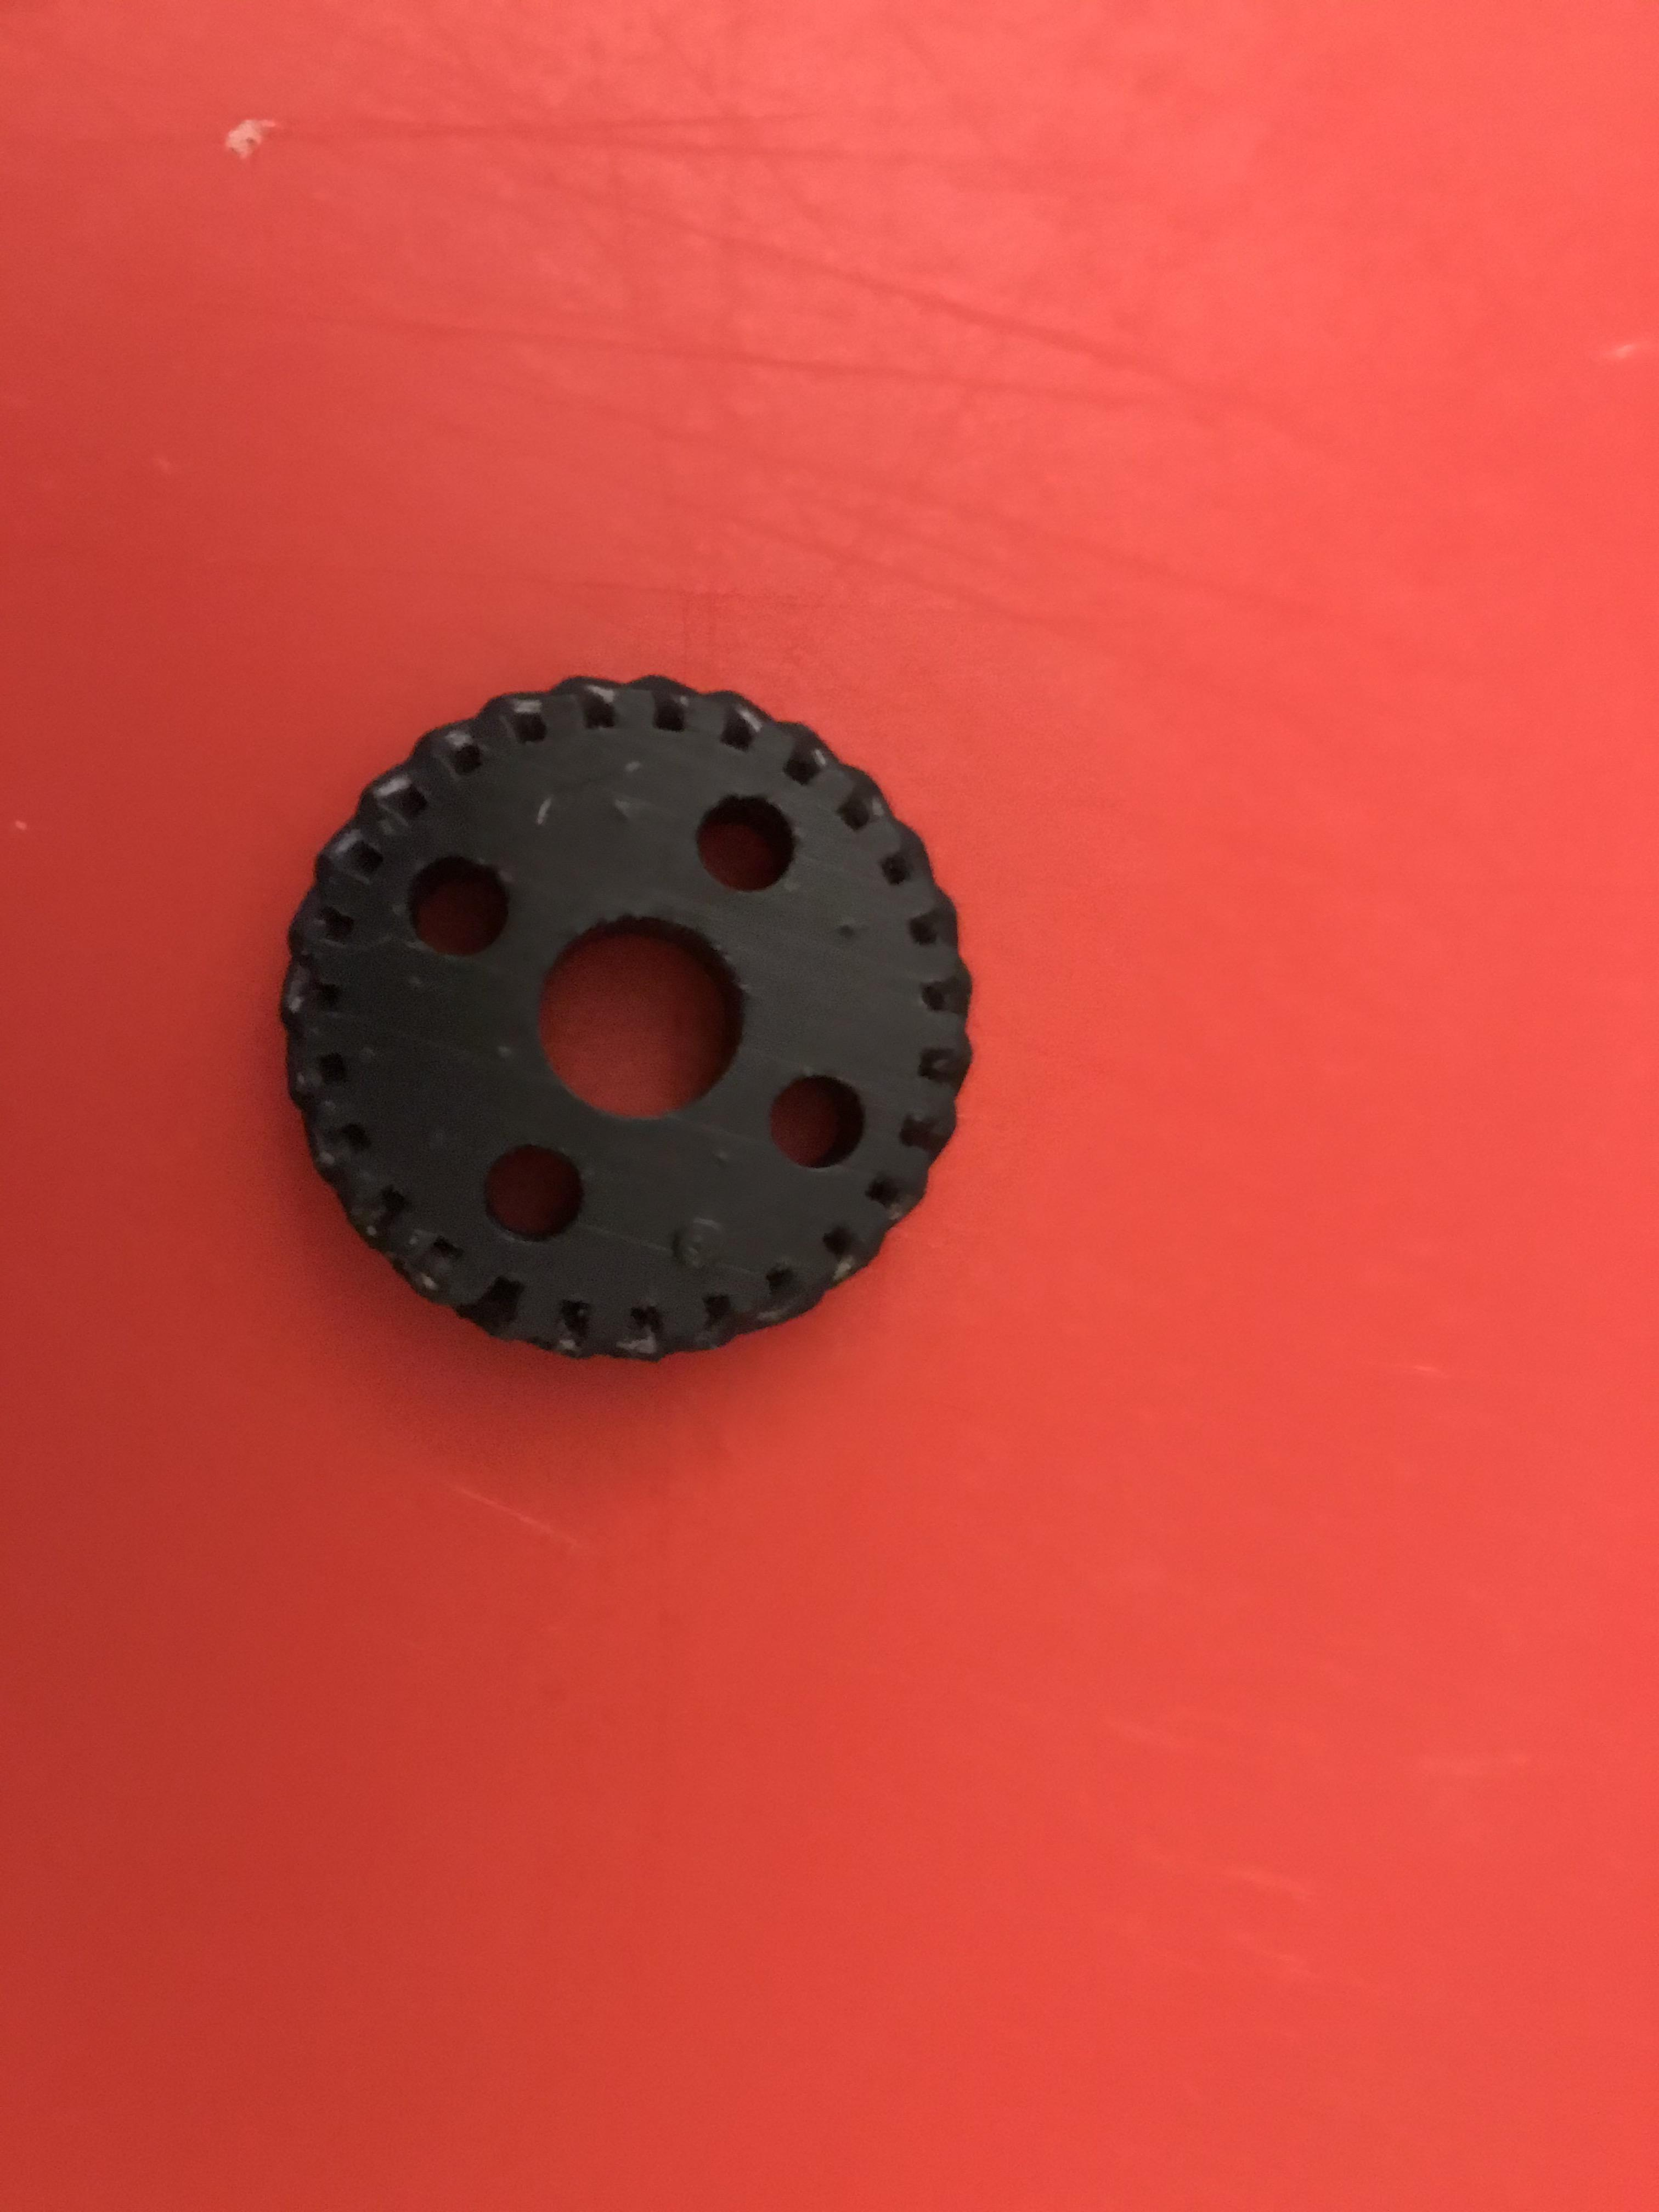Wheel: (260, 672, 981, 1353)
